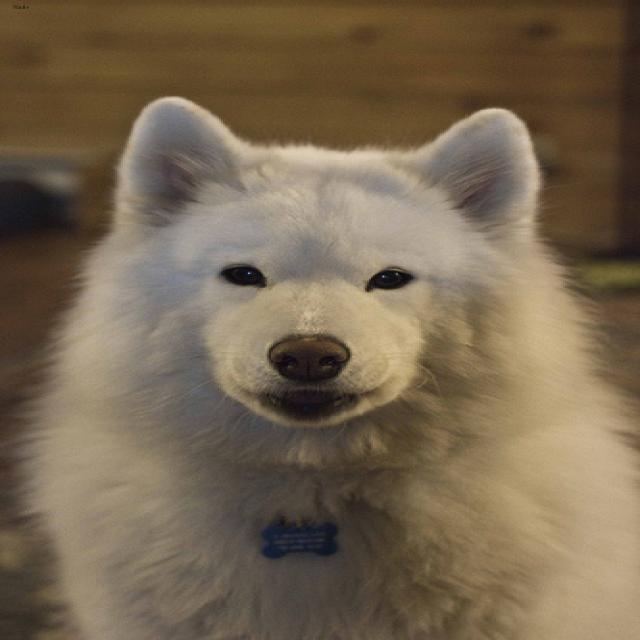dog-samoyed: (2, 82, 636, 637)
